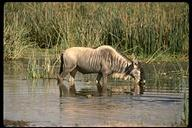antelope: (56, 44, 147, 88)
grass: (6, 4, 187, 45)
water: (7, 95, 181, 118)
